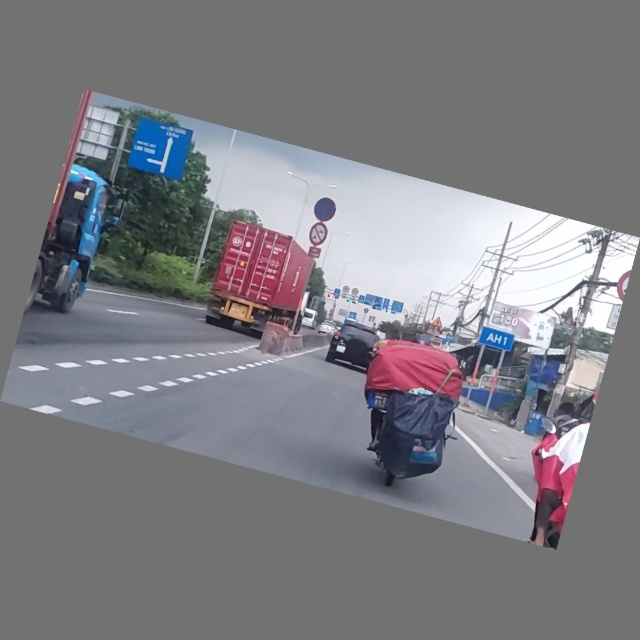P.111: (306, 220, 331, 248)
P.117*: (613, 266, 632, 305)
P.130: (310, 195, 339, 224)
